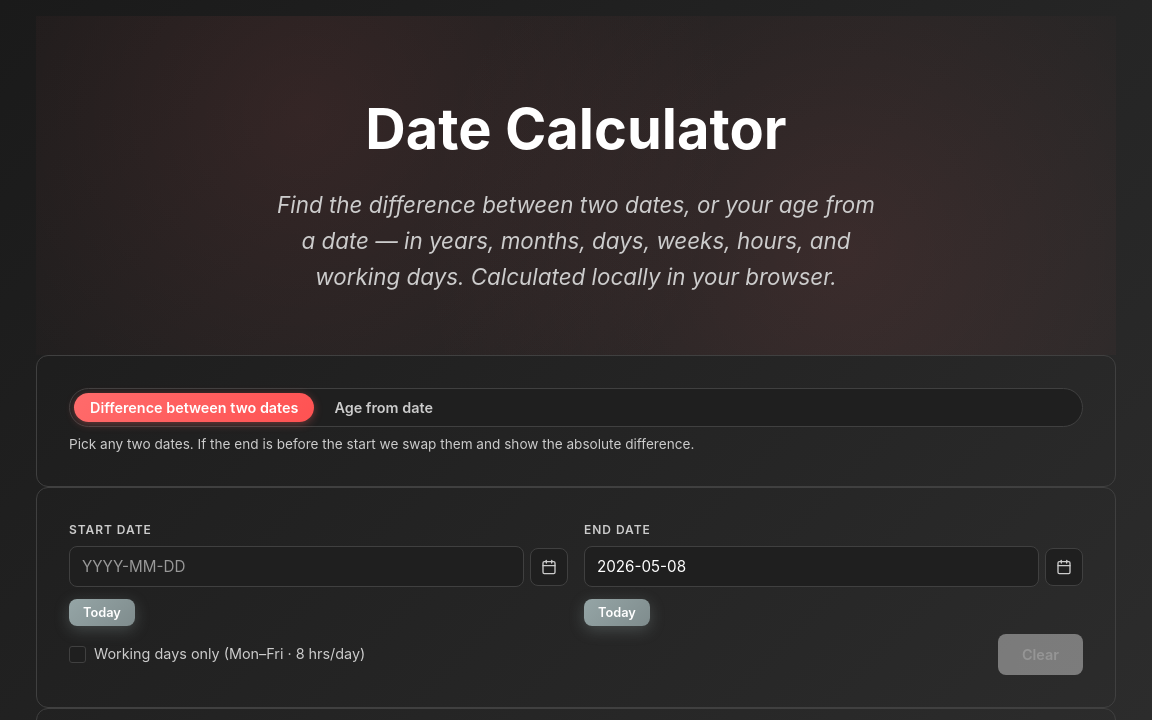
Test: <DateCalculator /> — working-days toggle › shows Total working days card only when toggle is on
Type "2024-01-15" into the field labelled "Start date" at (296, 566), box [69,546,524,587]
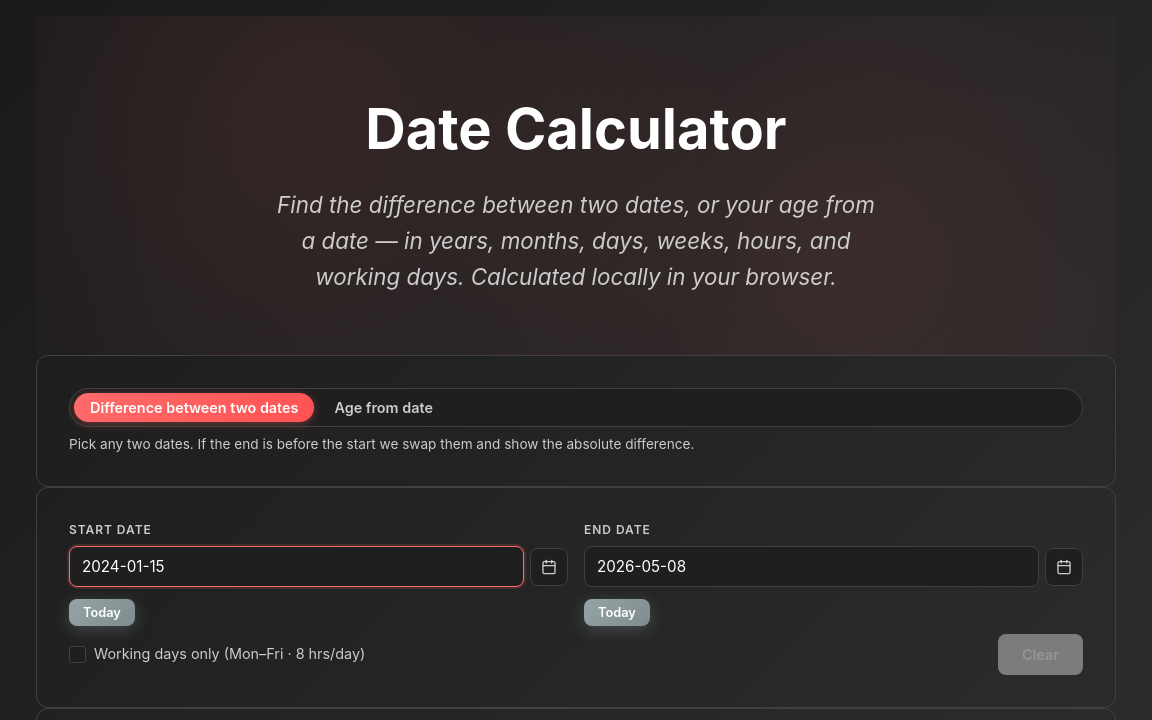
Press Tab
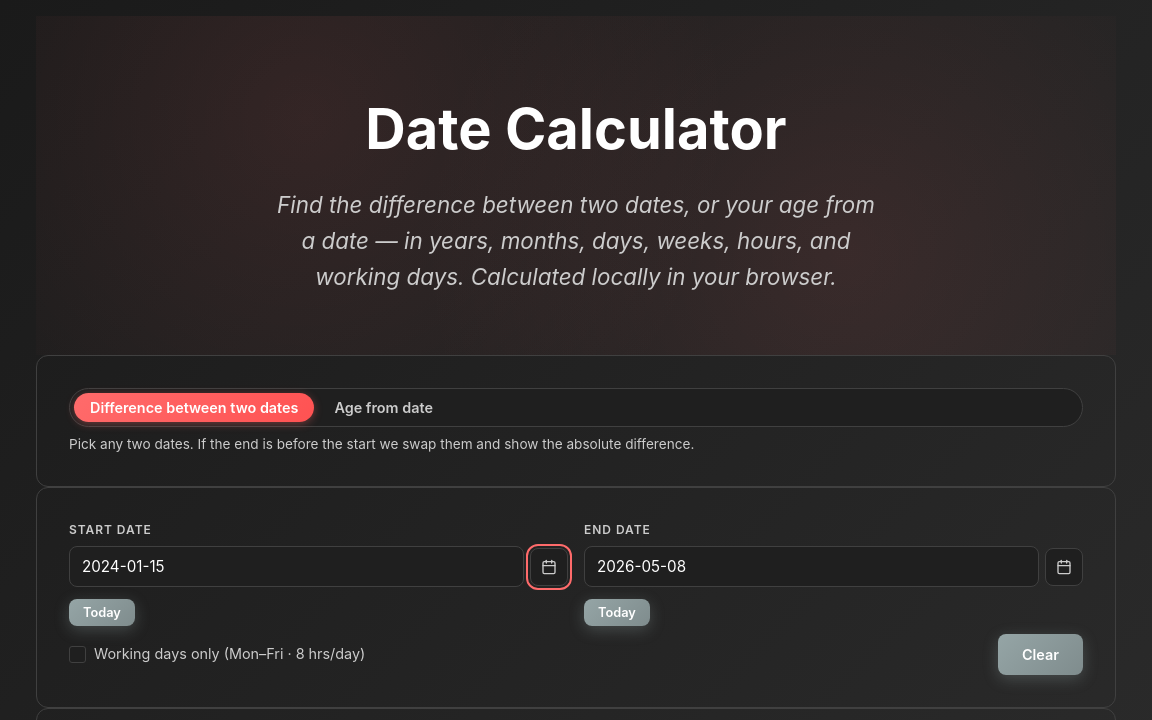
Replace the text in the field labelled "End date" with "2024-01-19" at (811, 566), box [584,546,1039,587]
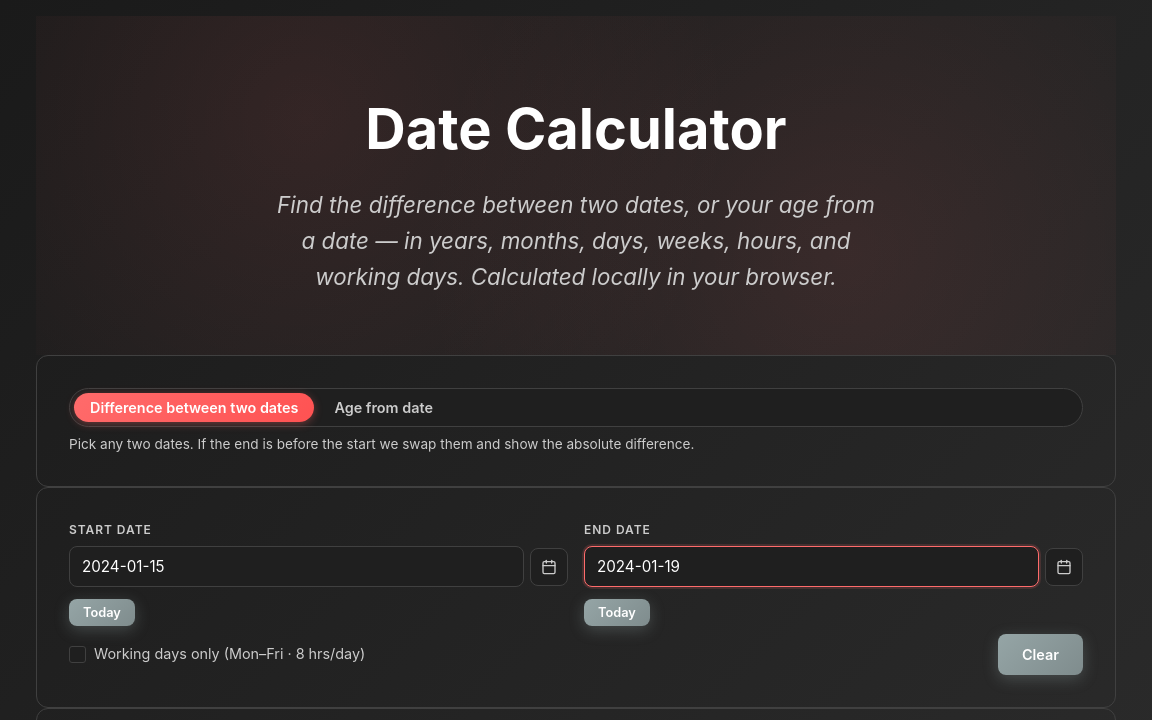
Press Tab
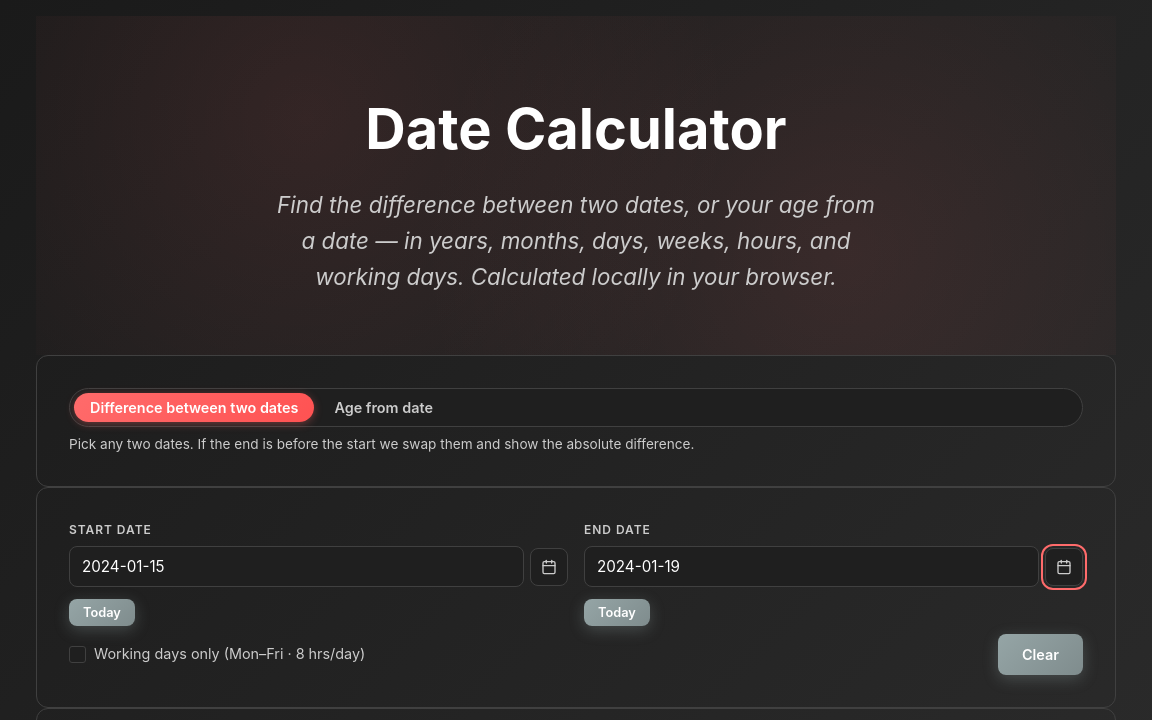
Check: the text "total working days" is not shown
Check: the text "total working hours" is not shown
Click the checkbox labelled "Working days only (Mon–Fri · 8 hrs/day)" at (217, 654), box [69,644,365,665]
(page scrolled)
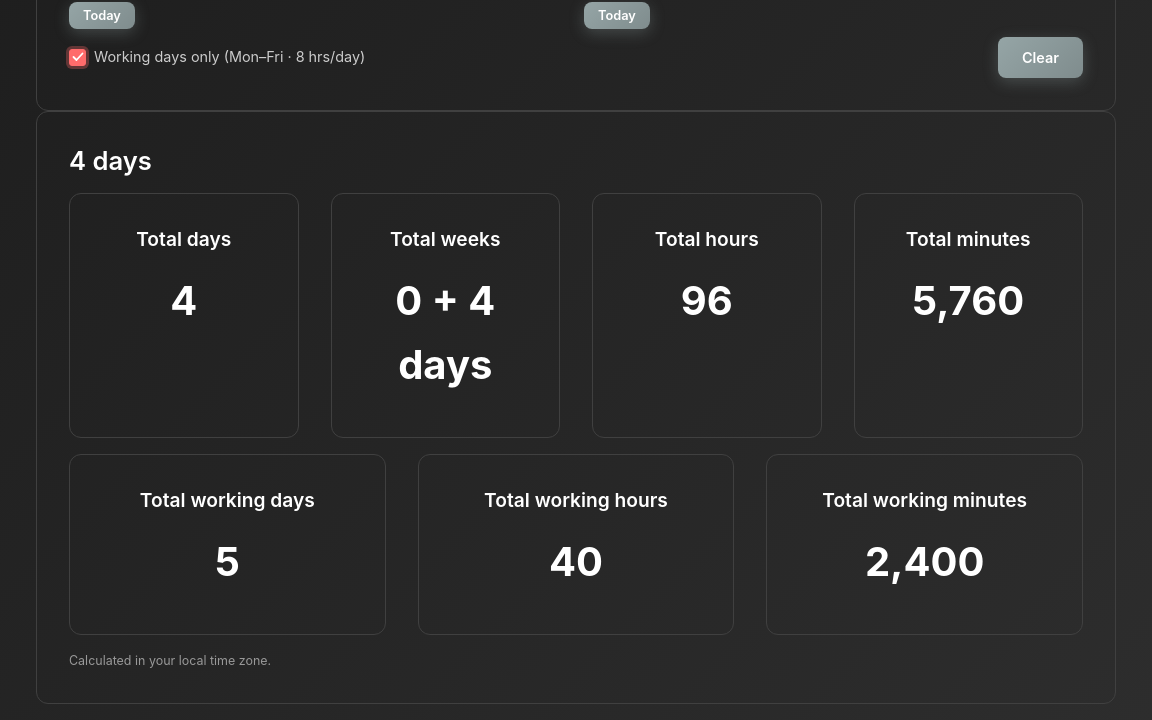
Check: the heading "Total working days" is shown, box [140,488,315,512]
Check: the heading "Total working hours" is shown, box [484,488,668,512]
Check: the heading "Total working minutes" is shown, box [822,488,1027,512]
